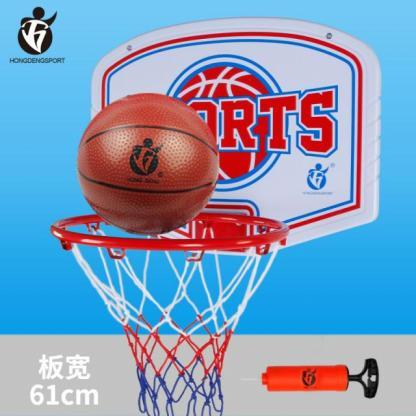basketball: (78, 92, 221, 235)
rim: (52, 219, 288, 416)
